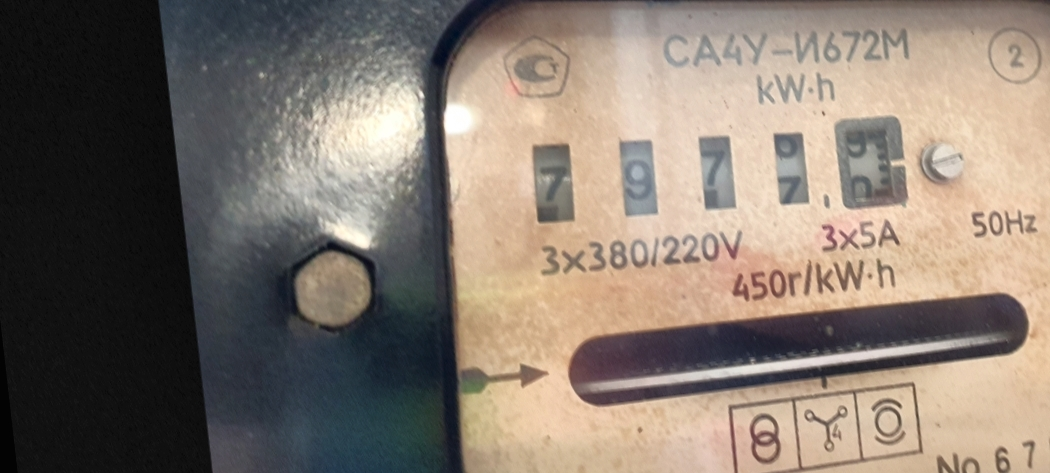0: (846, 170, 872, 202)
7: (532, 159, 571, 208), (772, 165, 807, 210), (697, 145, 730, 189)
9: (618, 154, 654, 205), (840, 127, 873, 162)
screen: (513, 90, 926, 261)
